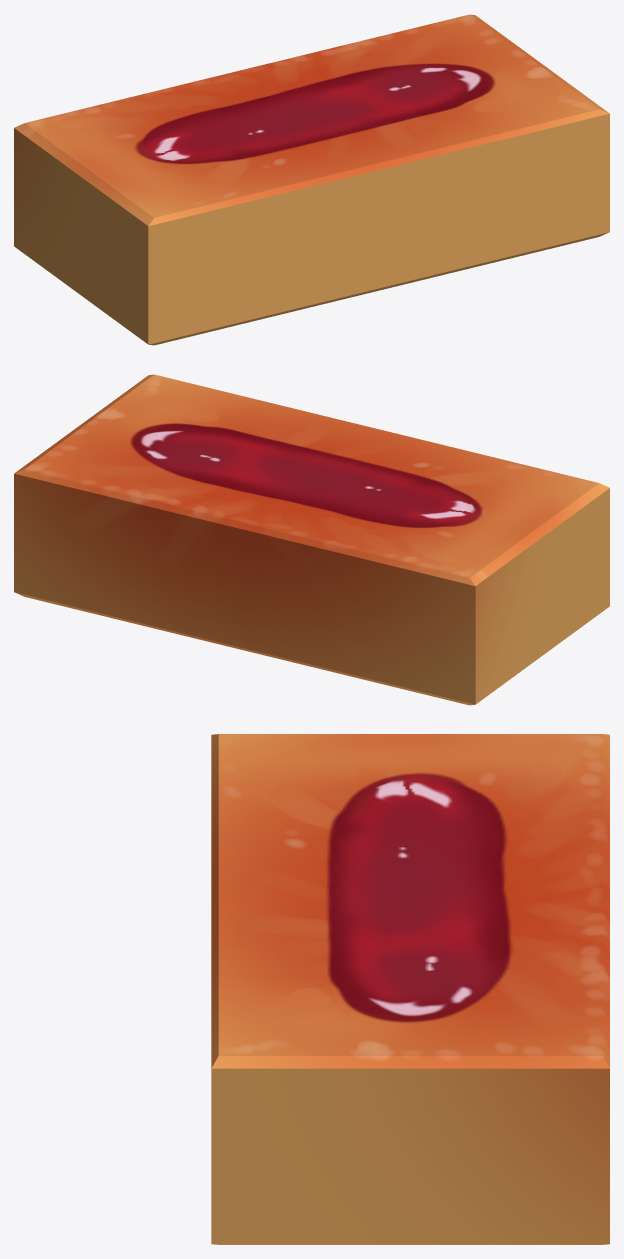
Rendered from aerial.fbx.
3 renders of one model, top to bottom at view 1: azimuth 30°, elevation 25°; view 2: azimuth 150°, elevation 25°; view 3: azimuth 270°, elevation 25°, orthographic. The views are drawn at different scales.
Visible parts, largest first — view 1: object 2; view 2: object 2; view 3: object 2.
Boxes of the visible parts, x1=… form: object 2: x1=14, y1=14, x2=609, y2=345; object 2: x1=14, y1=374, x2=609, y2=705; object 2: x1=211, y1=734, x2=609, y2=1244.
Size of the model in its own units: 20 by 5.28 by 15.09.
1 material, 1 textured.
